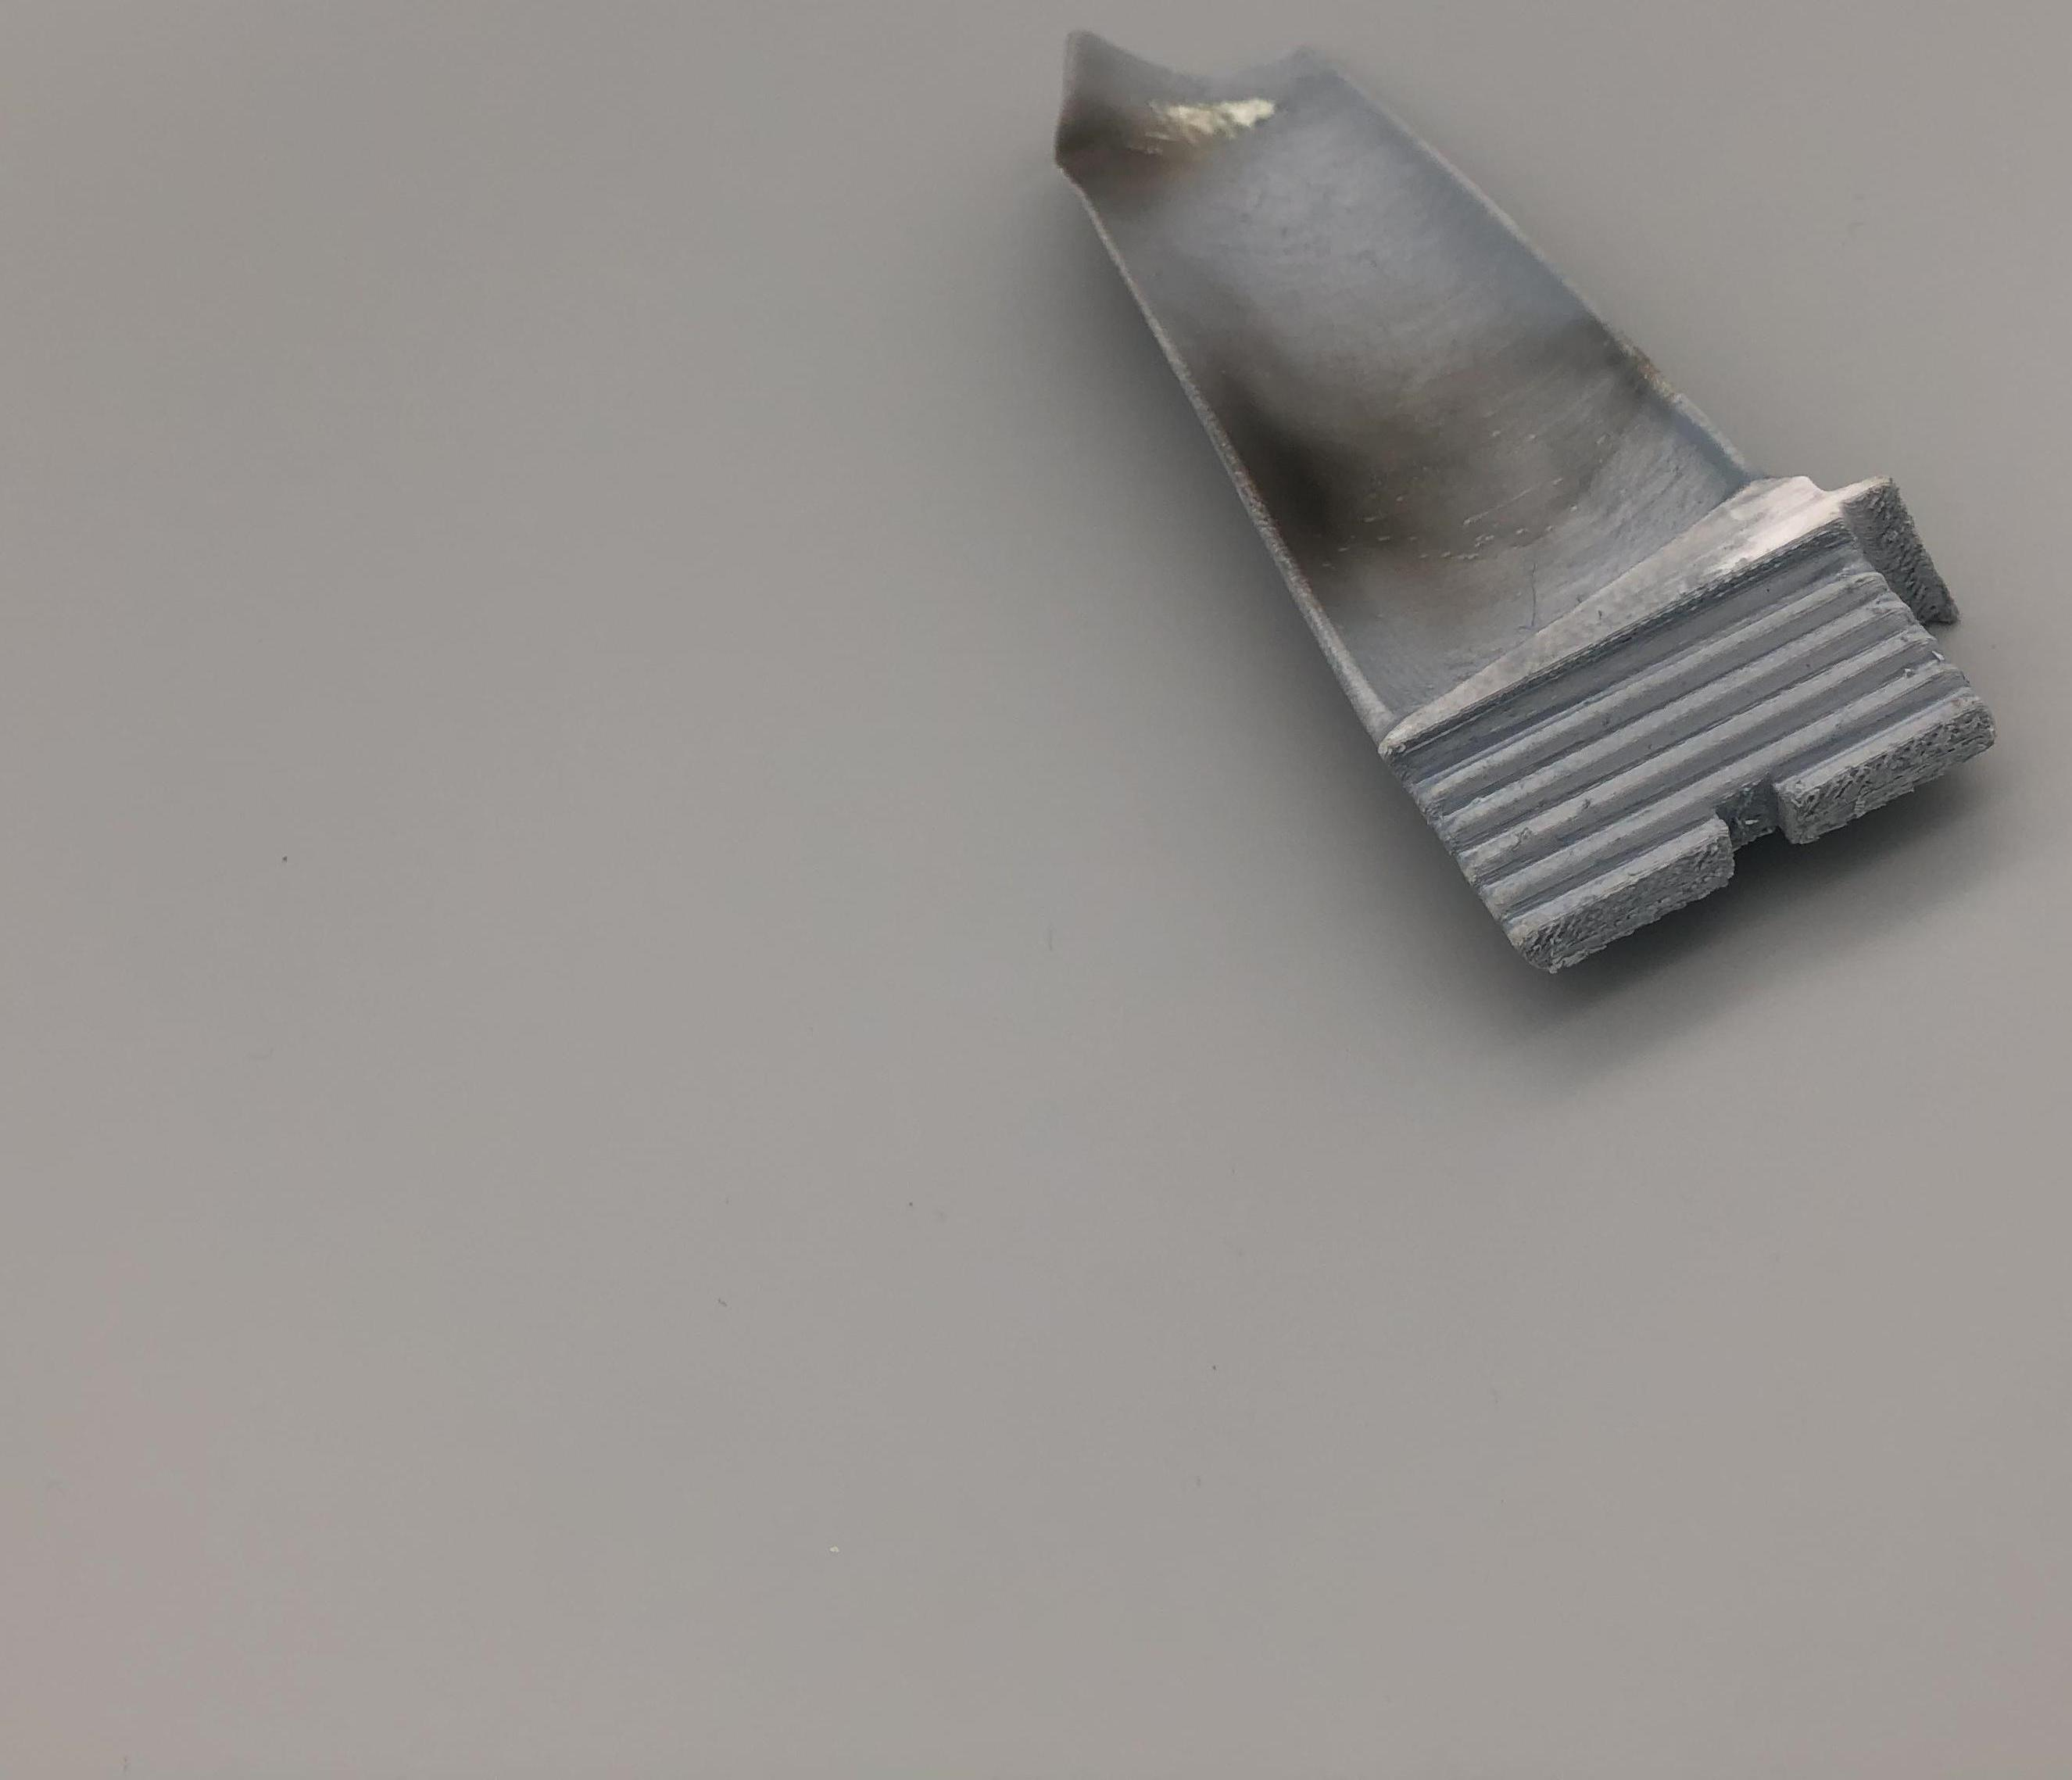ablation: (1253, 384, 1510, 587), (1071, 108, 1195, 208)
